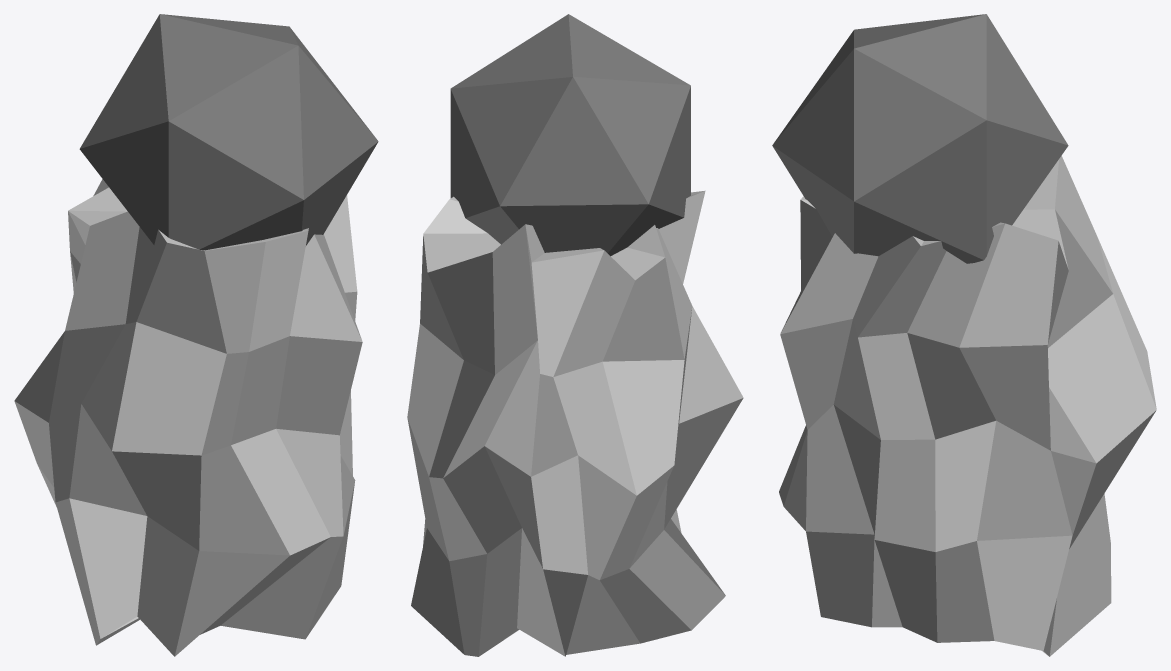
Rendered from Char_GL_Leg_Upper.FBX.
3 renders of one model, left to right at view 1: azimuth 30°, elevation 25°; view 2: azimuth 150°, elevation 25°; view 3: azimuth 270°, elevation 25°, orthographic. The views are drawn at different scales.
Visible parts, largest first — view 1: GeoSphere005; view 2: GeoSphere005; view 3: GeoSphere005.
Boxes of the visible parts, <box> form: GeoSphere005: <box>14,14,378,656</box>; GeoSphere005: <box>407,14,743,656</box>; GeoSphere005: <box>772,14,1156,656</box>.
Size of the model in its own units: 12.05 by 24.54 by 14.19.
